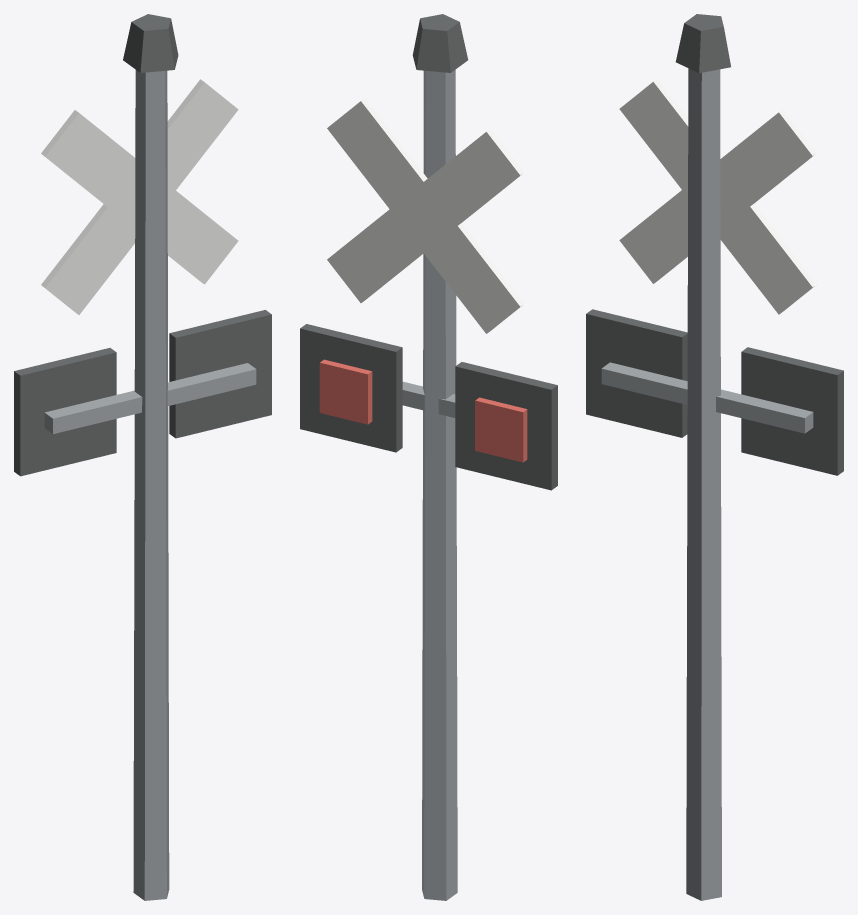
File: crossing-lights-far.glb
3 renders of one model, left to right at view 1: azimuth 30°, elevation 25°; view 2: azimuth 150°, elevation 25°; view 3: azimuth 330°, elevation 25°, orthographic.
Visible parts, largest first — view 1: crossing-lights-far; view 2: crossing-lights-far; view 3: crossing-lights-far.
Boxes of the visible parts, x1,y1,x2,y2 form: crossing-lights-far: [14, 14, 271, 900]; crossing-lights-far: [300, 14, 557, 900]; crossing-lights-far: [586, 14, 843, 900].
Bounding box in the file's own units: 0.3022 × 1 × 0.0651.
